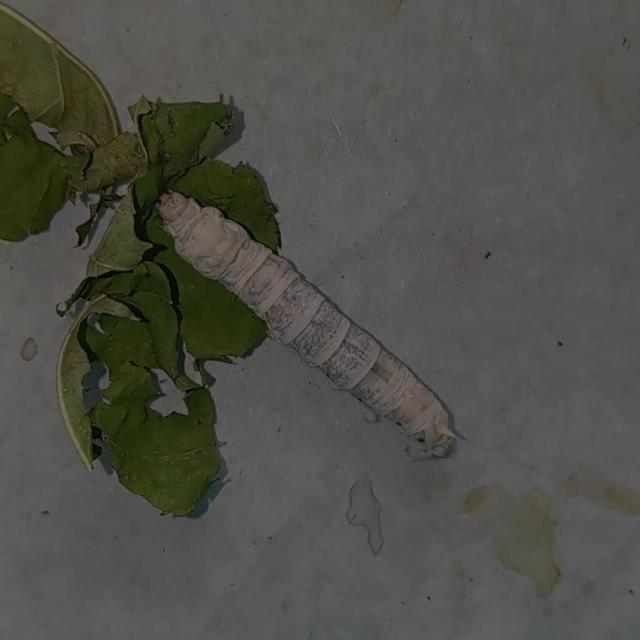Grasserie: (152, 181, 463, 472)
